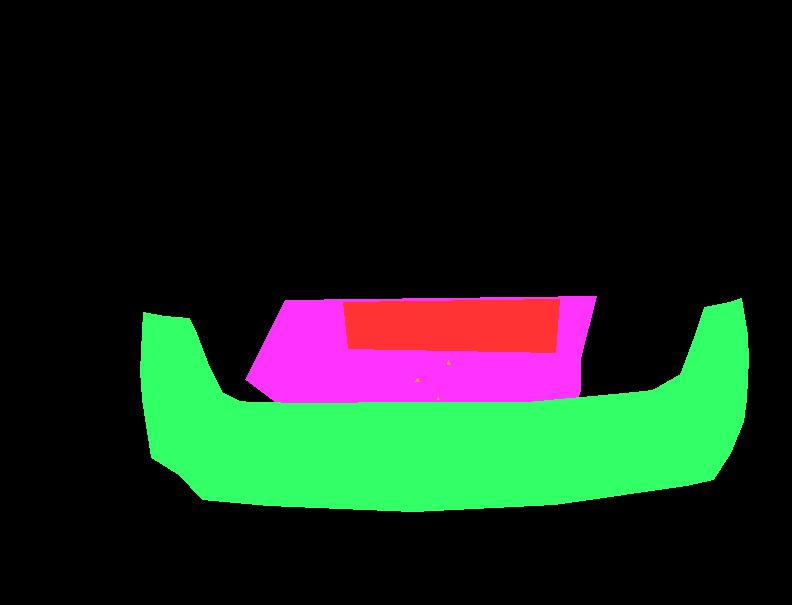Broken part: (140, 298, 748, 511)
Dent: (245, 296, 596, 407)
Flaking: (431, 469, 455, 509)
Missing part: (343, 299, 559, 352), (154, 439, 206, 472)
Paint chip: (447, 360, 450, 364), (415, 378, 419, 381), (437, 397, 439, 399)
Scratch: (359, 468, 364, 476)
